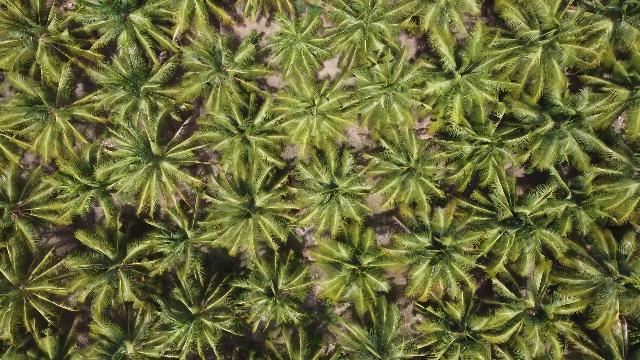trees: (455, 173, 573, 287), (99, 110, 218, 220), (413, 20, 523, 139), (3, 227, 98, 355), (509, 89, 628, 189), (54, 224, 165, 330), (489, 5, 617, 93), (199, 163, 304, 266), (543, 234, 639, 344), (392, 209, 495, 310), (171, 25, 276, 119), (142, 266, 246, 360), (192, 85, 288, 182), (309, 226, 403, 320), (362, 127, 452, 222), (24, 142, 120, 231), (85, 44, 186, 128), (1, 3, 97, 91), (289, 143, 375, 241), (270, 70, 358, 163), (230, 252, 316, 345), (345, 53, 433, 143), (74, 2, 168, 63), (324, 4, 409, 69), (261, 9, 336, 81), (406, 3, 481, 53), (164, 2, 235, 47), (2, 220, 47, 289)
